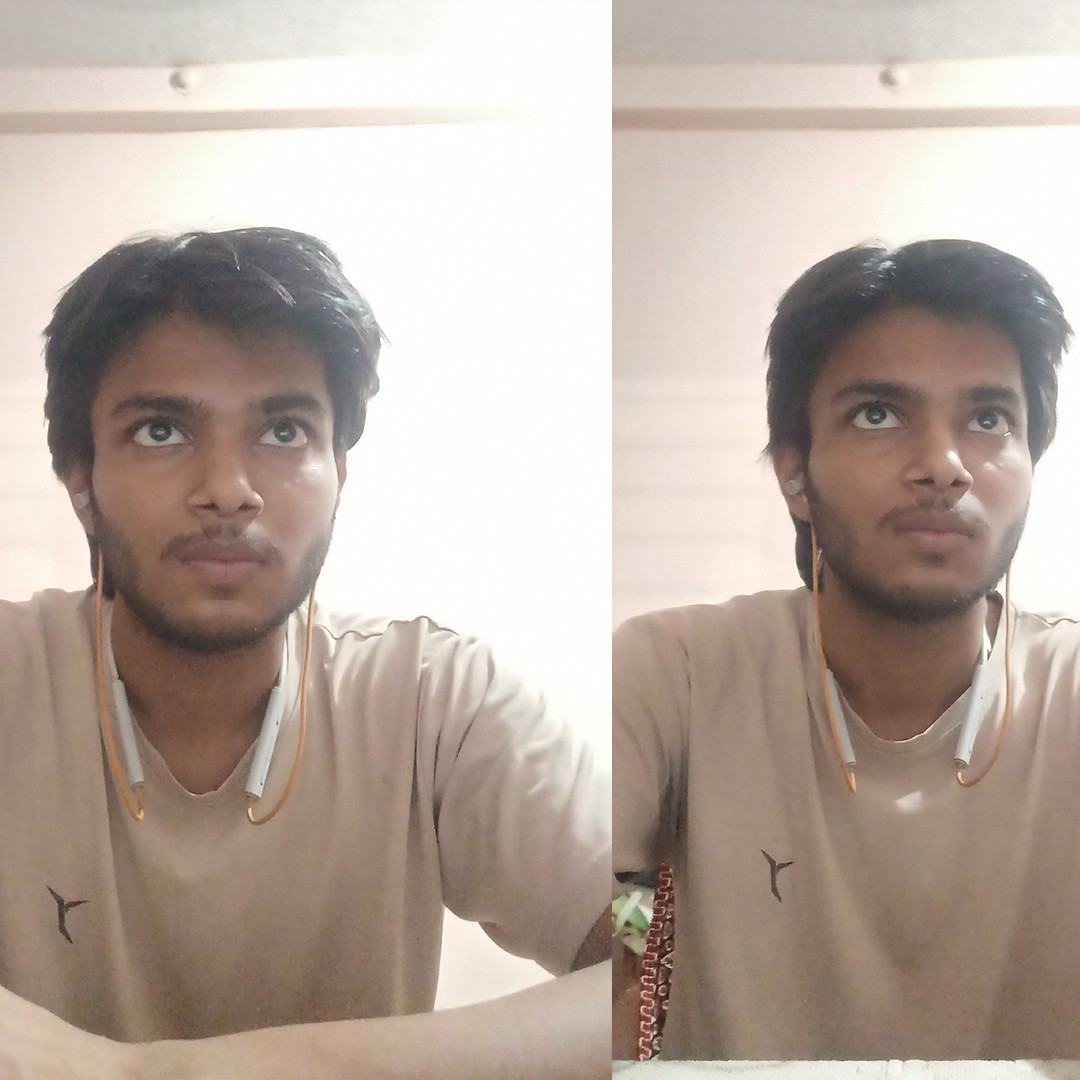Focused: (25, 191, 441, 707), (755, 249, 1075, 634)
